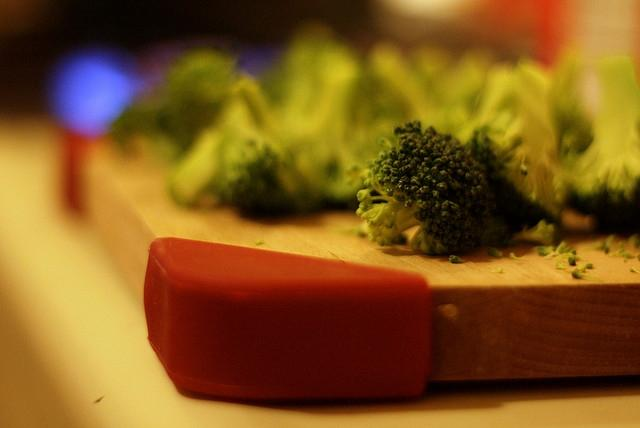broccoli: (456, 56, 570, 232), (356, 120, 496, 256), (110, 45, 248, 164), (563, 52, 640, 230), (168, 93, 264, 206), (277, 25, 339, 154), (426, 52, 488, 130)
